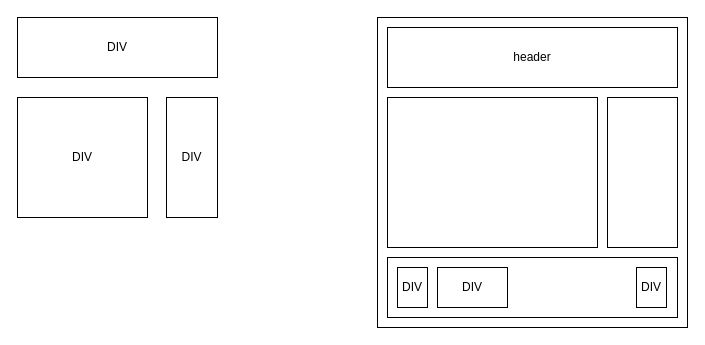
Image size: 705x345. Some labels were removed from this diagram. The box of each missing label's shape, as (x1, y1, x2, y2) in pixels:
aside: (606, 96, 678, 248)
footer: (386, 256, 678, 318)
main: (386, 96, 598, 248)
